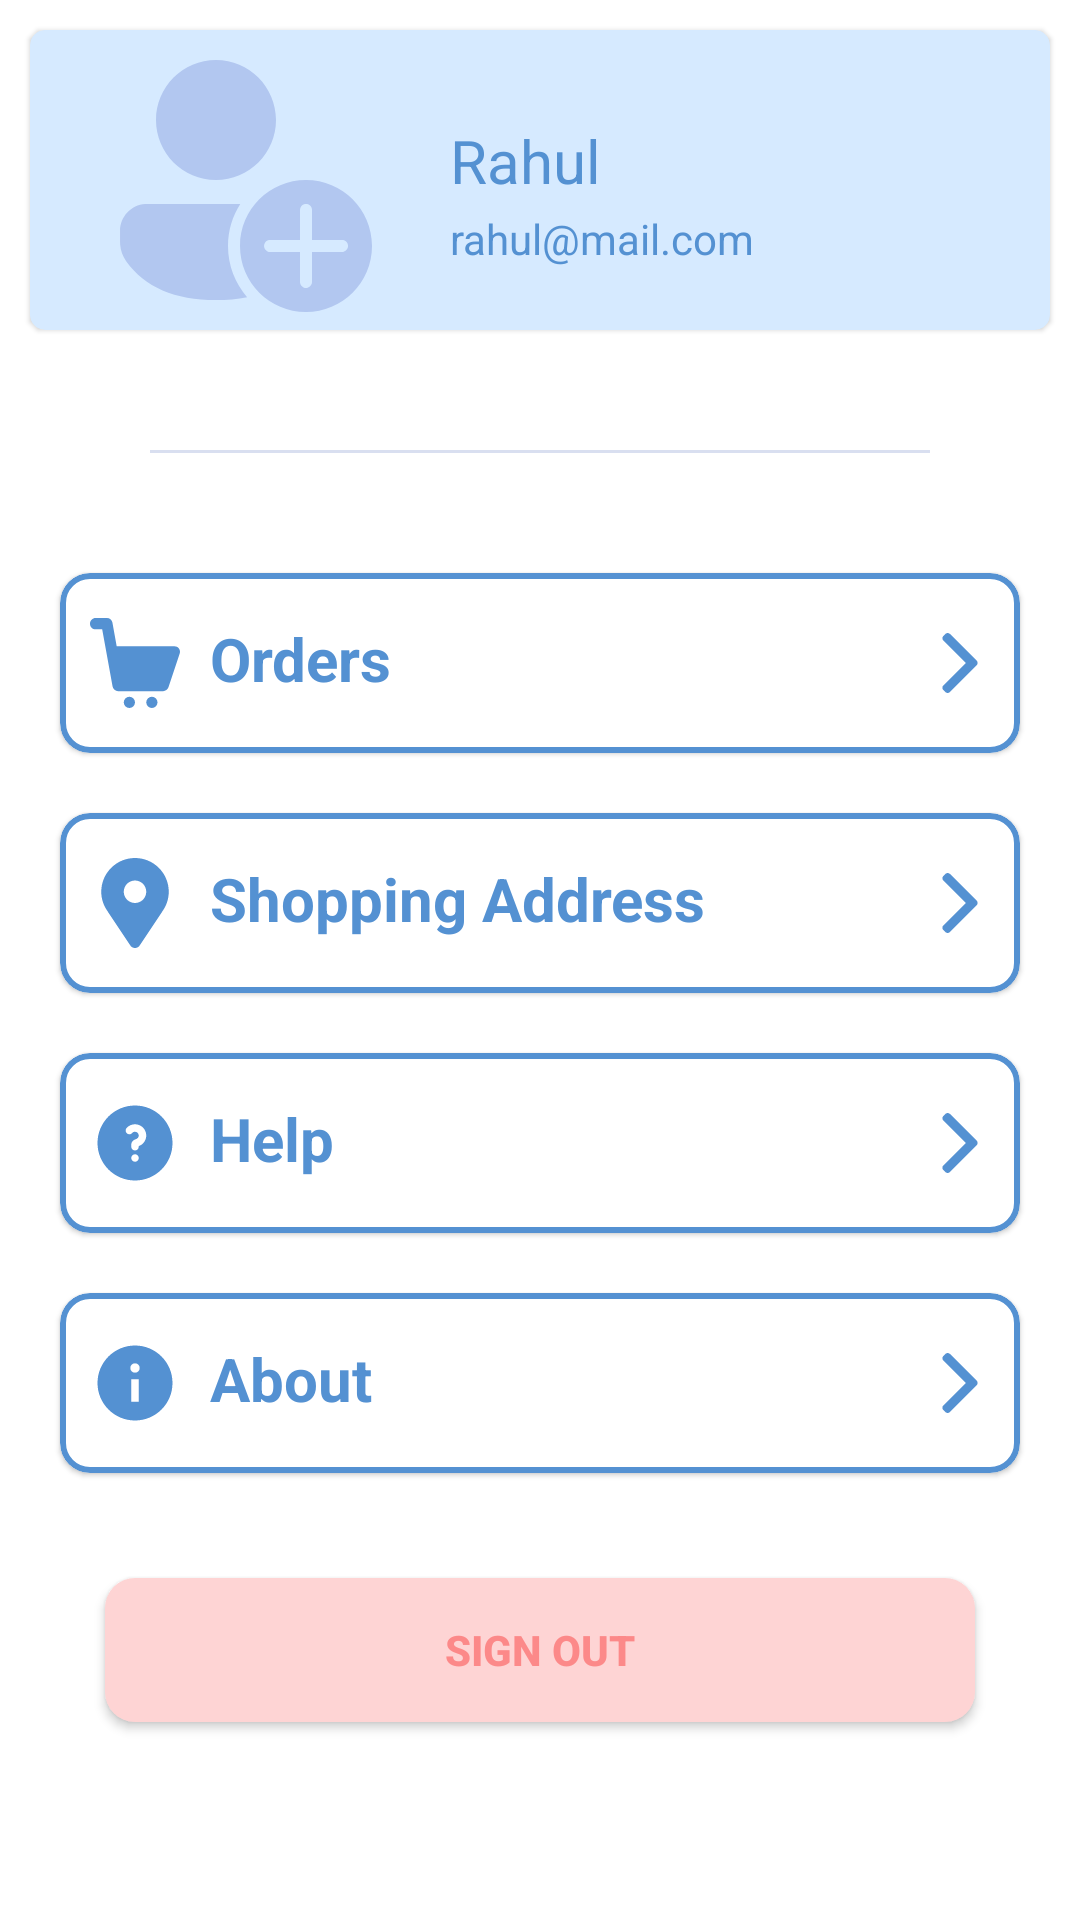

Screen size 1080 × 1920. Icon name, then its box in pixels as (x1, y1, x2, y2):
person add: (120, 60, 372, 312)
